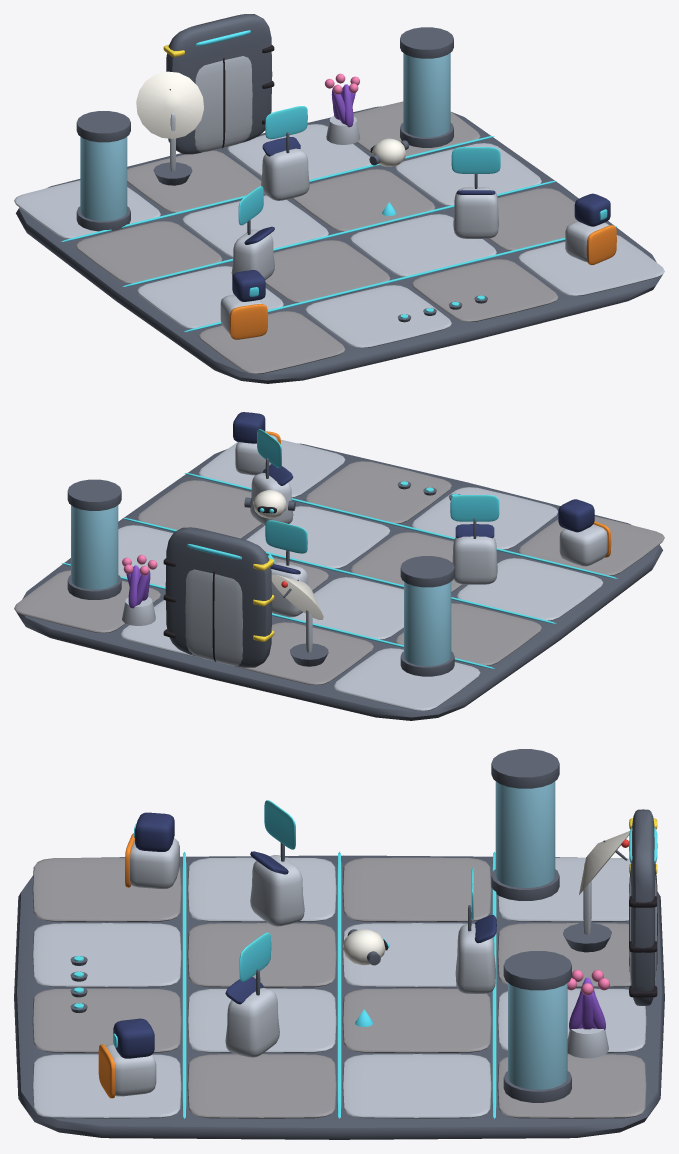
File: Diorama_Codigo.fbx
3 renders of one model, top to bottom at view 1: azimuth 30°, elevation 25°; view 2: azimuth 150°, elevation 25°; view 3: azimuth 270°, elevation 25°, orthographic. The views are drawn at different scales.
Visible parts, largest first — view 1: Suelo_Codigo, Compuerta.001, Antena.001, Capsula_Brillo.002, Capsula_Brillo.001, Suelo_Codigo_Brillo, CajasCarga.001, Terminal.003, CajasCarga.002, Terminal.002, Capsula.001, Capsula.002 (+6 smaller); view 2: Suelo_Codigo, Compuerta.001, Capsula_Brillo.001, Capsula_Brillo.002, CajasCarga.002, Suelo_Codigo_Brillo, Terminal.001, Capsula.002, Capsula.001, Antena.001, CajasCarga.001, PlantaAlien.001 (+6 smaller); view 3: Suelo_Codigo, Capsula_Brillo.001, Capsula_Brillo.002, Compuerta.001, CajasCarga.001, Terminal.002, CajasCarga.002, Suelo_Codigo_Brillo, Terminal.001, Capsula.002, Capsula.001, Terminal.003 (+6 smaller).
Part boxes in pixels (bbox=[...]): Suelo_Codigo: bbox=[14, 101, 664, 383]; Compuerta.001: bbox=[163, 14, 274, 154]; Antena.001: bbox=[136, 71, 203, 185]; Capsula_Brillo.002: bbox=[403, 53, 450, 137]; Capsula_Brillo.001: bbox=[80, 136, 127, 221]; Suelo_Codigo_Brillo: bbox=[61, 136, 617, 331]; CajasCarga.001: bbox=[565, 193, 616, 264]; Terminal.003: bbox=[261, 132, 309, 200]; CajasCarga.002: bbox=[220, 270, 267, 339]; Terminal.002: bbox=[453, 174, 498, 238]; Capsula.001: bbox=[76, 111, 130, 231]; Capsula.002: bbox=[400, 27, 453, 147]; Suelo_Codigo: bbox=[14, 439, 664, 720]; Compuerta.001: bbox=[163, 527, 274, 667]; Capsula_Brillo.001: bbox=[404, 581, 451, 666]; Capsula_Brillo.002: bbox=[71, 505, 118, 589]; CajasCarga.002: bbox=[558, 499, 611, 566]; Suelo_Codigo_Brillo: bbox=[61, 473, 617, 668]; Terminal.001: bbox=[452, 518, 497, 584]; Capsula.002: bbox=[67, 479, 121, 599]; Capsula.001: bbox=[400, 556, 454, 676]; Antena.001: bbox=[271, 574, 328, 666]; CajasCarga.001: bbox=[233, 412, 280, 475]; PlantaAlien.001: bbox=[122, 565, 155, 625]; Suelo_Codigo: bbox=[14, 855, 664, 1139]; Capsula_Brillo.001: bbox=[495, 781, 555, 887]; Capsula_Brillo.002: bbox=[508, 983, 567, 1089]; Compuerta.001: bbox=[629, 809, 657, 1005]; CajasCarga.001: bbox=[98, 1018, 156, 1098]; Terminal.002: bbox=[225, 969, 279, 1057]; CajasCarga.002: bbox=[125, 812, 179, 888]; Suelo_Codigo_Brillo: bbox=[182, 852, 496, 1118]; Terminal.001: bbox=[250, 843, 304, 926]; Capsula.002: bbox=[503, 951, 571, 1102]; Capsula.001: bbox=[491, 749, 559, 900]; Terminal.003: bbox=[455, 905, 496, 993].
Bounding box in the file's own units: 10.5 × 3.15 × 10.5.
Materials: 2 (2 with a texture image).
